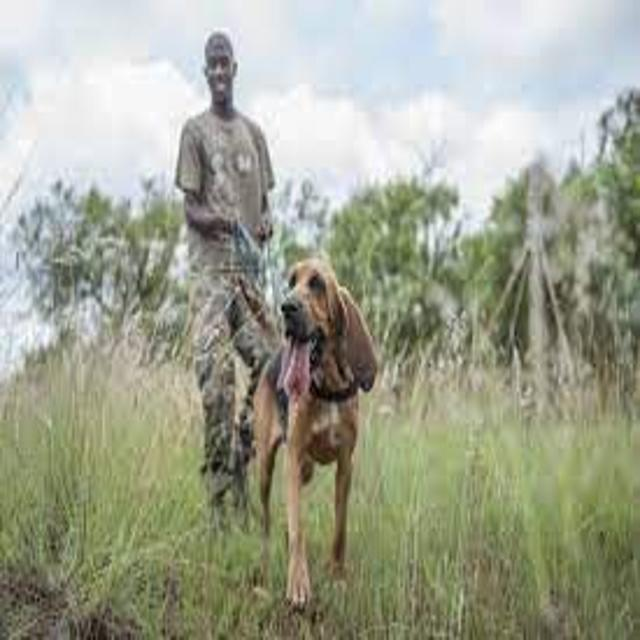Dog: (262, 220, 412, 621)
